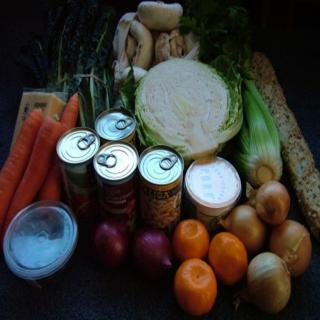Carrot: (0, 111, 64, 252)
